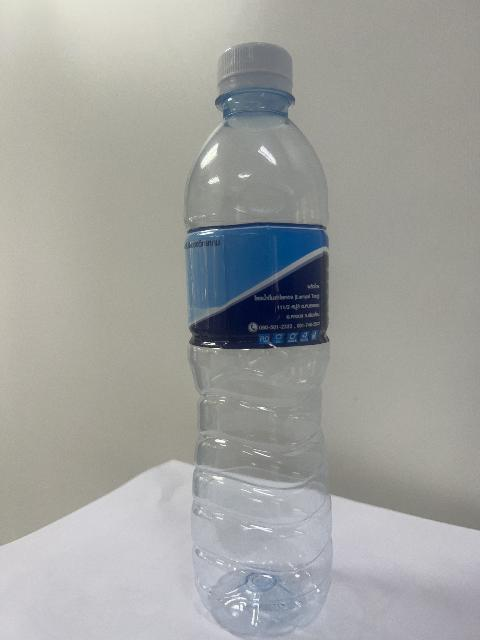bottle: (185, 43, 332, 636)
